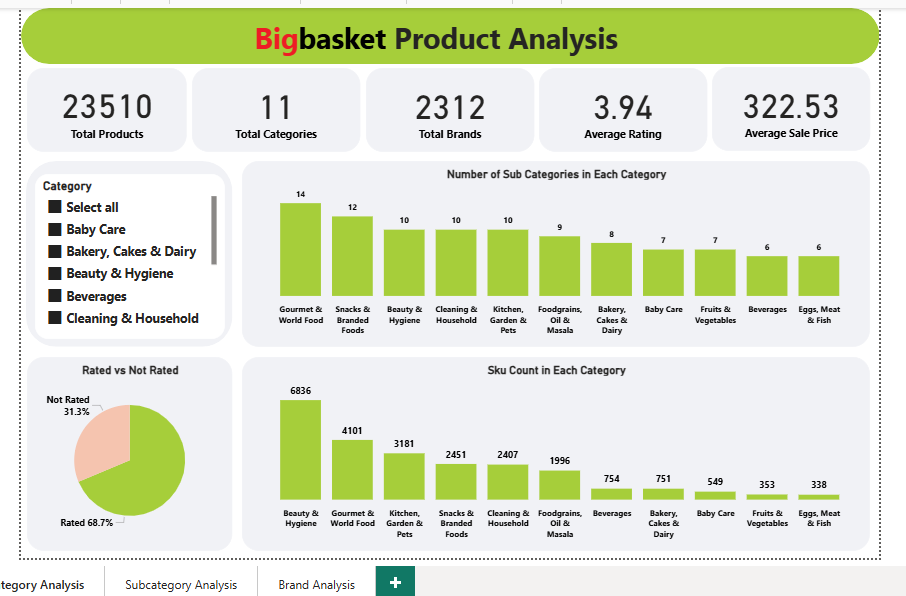

What the dashboard file says about the page in this screenshot:
{"tool":"powerbi","page":{"name":"Category Analysis","canvas":[1280,820],"ordinal":0},"visuals":[{"type":"shape","box":[0,0,1280.2,83.5],"z":0,"group":"g1"},{"type":"shape","box":[7.7,227.7,307.7,276.9],"z":0},{"type":"group","id":"g1","title":"Group 1","box":[0,0,1280.2,83.5],"z":1000},{"type":"textbox","box":[342.4,10.1,595.4,73.4],"z":1000,"group":"g1"},{"type":"card","fields":{"Values":["measure_Table.total_products"]},"box":[9.2,89.1,238.5,124.6],"z":2000},{"type":"card","fields":{"Values":["measure_Table.total_brands"]},"box":[513.8,89,250.6,125.3],"z":3000},{"type":"card","fields":{"Values":["measure_Table.avg_rating"]},"box":[772.1,89.3,250.6,125.3],"z":4000},{"type":"card","fields":{"Values":["measure_Table.avg_sale_price"]},"box":[1030.4,88.7,235.9,125.5],"z":5000},{"type":"card","fields":{"Values":["measure_Table.total_categories"]},"box":[255.4,88.7,250.6,125.3],"z":6000},{"type":"slicer","title":"Category","fields":{"Values":["cleaned_df.category"]},"box":[20.9,247.5,283.3,246],"z":7000},{"type":"clusteredColumnChart","title":"Number of Sub Categories in Each Category","fields":{"Category":["cleaned_df.category"],"Y":["Count(cleaned_df.sub_category)"]},"box":[329.6,228,936.4,277.2],"z":8000},{"type":"clusteredColumnChart","title":"Sku Count in Each Category","fields":{"Category":["cleaned_df.category"],"Y":["Count(cleaned_df.product)"]},"box":[329.6,519.9,936.4,288.6],"z":9000},{"type":"pieChart","title":"Rated vs Not Rated","fields":{"Category":["cleaned_df.rating_status"],"Y":["CountNonNull(cleaned_df.rating_status)"]},"box":[9.2,520,306.2,289.2],"z":10000}]}

Visuals, with their boxes on the page's 1280x820 design canvas (x1, y1, x2, y2). These are canvas units, not pixel positions in the 906x596 screenshot, which may show the page scaled, cropped or inside an application window:
shape: region(0, 0, 1280, 84)
shape: region(8, 228, 315, 505)
"Group 1" group: region(0, 0, 1280, 84)
textbox: region(342, 10, 938, 84)
card - measure_Table.total_products: region(9, 89, 248, 214)
card - measure_Table.total_brands: region(514, 89, 764, 214)
card - measure_Table.avg_rating: region(772, 89, 1023, 215)
card - measure_Table.avg_sale_price: region(1030, 89, 1266, 214)
card - measure_Table.total_categories: region(255, 89, 506, 214)
"Category" slicer: region(21, 248, 304, 494)
"Number of Sub Categories in Each Category" clusteredColumnChart: region(330, 228, 1266, 505)
"Sku Count in Each Category" clusteredColumnChart: region(330, 520, 1266, 808)
"Rated vs Not Rated" pieChart: region(9, 520, 315, 809)
